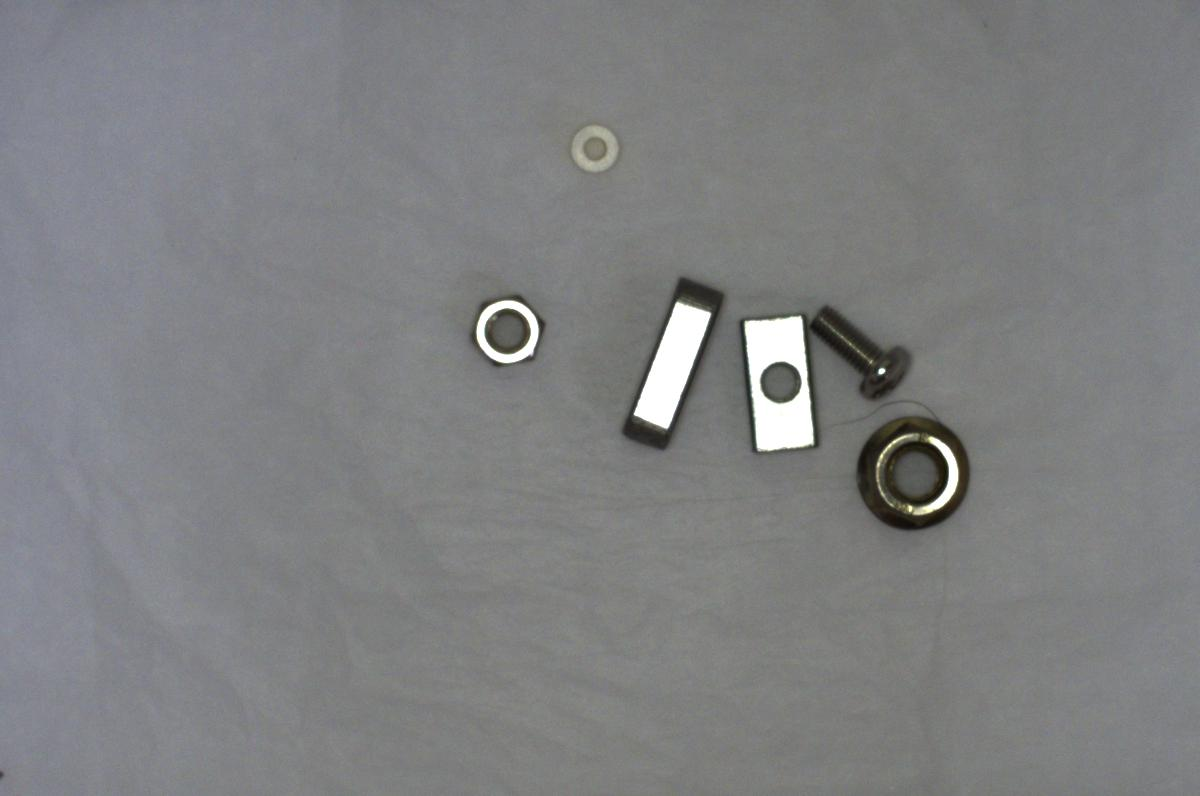Flange nut: (834, 405, 982, 532)
Hexagon nut: (461, 282, 556, 373)
Keybar: (614, 268, 729, 449)
Plastic cushion pillar: (565, 115, 624, 187)
Rectangular nut: (732, 308, 821, 456)
Round head screw: (803, 296, 919, 400)
